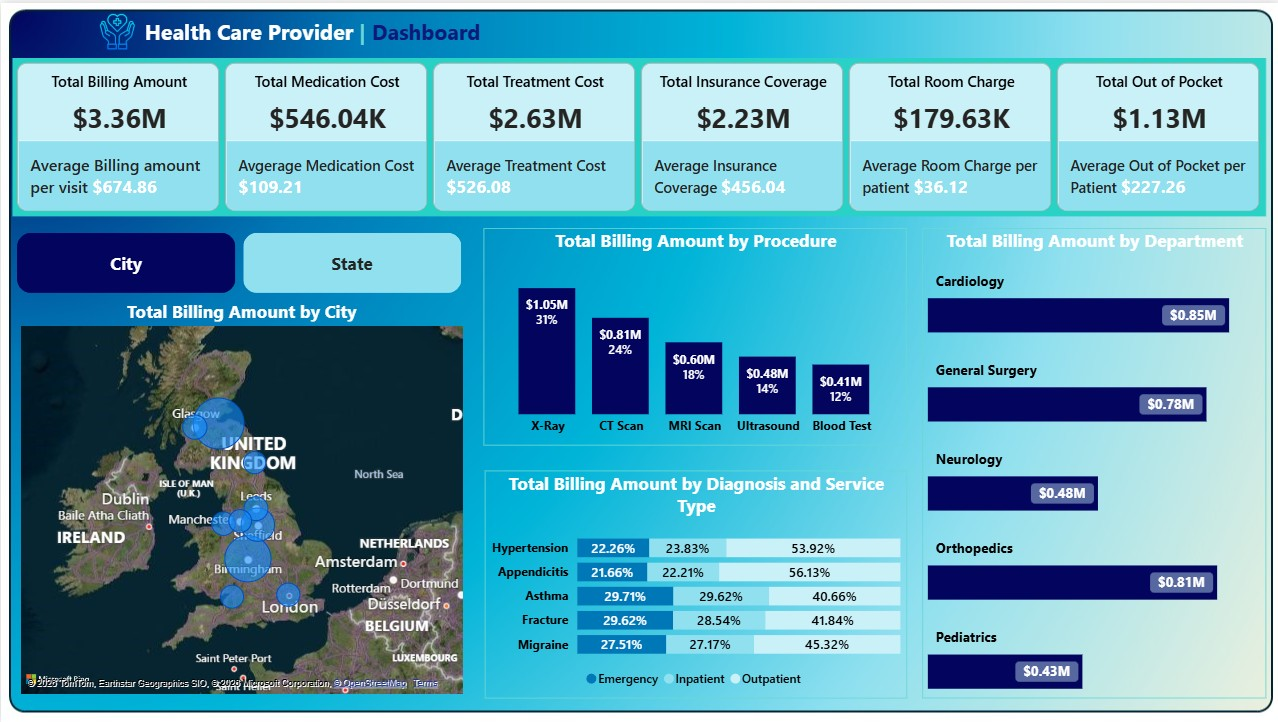

The dashboard page shown, as its layout file describes it:
{"tool":"powerbi","page":{"name":"Page 4","canvas":[1280,720],"ordinal":3},"visuals":[{"type":"cardVisual","fields":{"Data":["_Measure Table.Total Billing Amount","_Measure Table.Total Medication Cost","_Measure Table.Total Treatment Cost","_Measure Table.Total Insurance Coverage","_Measure Table.Total Room Charge","_Measure Table.Total Out of Pocket"]},"box":[11.2,55,1253.8,158.8],"z":0},{"type":"advancedSlicerVisual","fields":{"Values":["Patient Location Switch.Patient Location Switch"]},"box":[11.8,225,454.4,70.6],"z":1000},{"type":"clusteredColumnChart","fields":{"Category":["procedures.Procedure"],"Y":["_Measure Table.Total Billing Amount"]},"box":[482.4,225,423.5,217.6],"z":3000},{"type":"hundredPercentStackedBarChart","fields":{"Category":["diagnoses.Diagnosis"],"Y":["_Measure Table.Total Billing Amount"],"Series":["visits.Service Type"]},"box":[483.8,467.6,422.1,227.9],"z":4000},{"type":"clusteredBarChart","title":"Total Billing Amount by Department","fields":{"Category":["departments.Department"],"Y":["_Measure Table.Blank Measure","_Measure Table.Total Billing Amount"]},"box":[921.2,225,343.8,470],"z":5000},{"type":"textbox","box":[138.8,8.8,441.2,46.2],"z":6000},{"type":"image","box":[89.3,4.8,55.5,47.1],"z":7000},{"type":"map","fields":{"Category":["cities.City"],"Size":["_Measure Table.Total Billing Amount"]},"box":[14.4,295.8,451.6,399.6],"z":7001}]}

Visuals, with their boxes in screenshot pixels (x1, y1, x2, y2), scaled from the page's 1280x720 canvas onto the 1278x722 screenshot:
cardVisual - _Measure Table.Total Billing Amount x _Measure Table.Total Medication Cost: <box>11,55,1263,214</box>
advancedSlicerVisual - Patient Location Switch.Patient Location Switch: <box>12,226,465,296</box>
clusteredColumnChart - procedures.Procedure x _Measure Table.Total Billing Amount: <box>482,226,904,444</box>
hundredPercentStackedBarChart - diagnoses.Diagnosis x _Measure Table.Total Billing Amount: <box>483,469,904,697</box>
"Total Billing Amount by Department" clusteredBarChart: <box>920,226,1263,697</box>
textbox: <box>139,9,579,55</box>
image: <box>89,5,145,52</box>
map - cities.City x _Measure Table.Total Billing Amount: <box>14,297,465,697</box>
